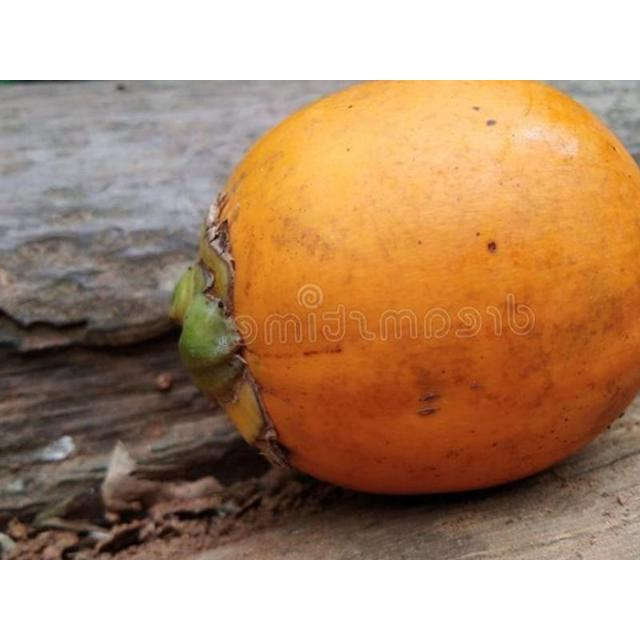good: (170, 80, 639, 498)
